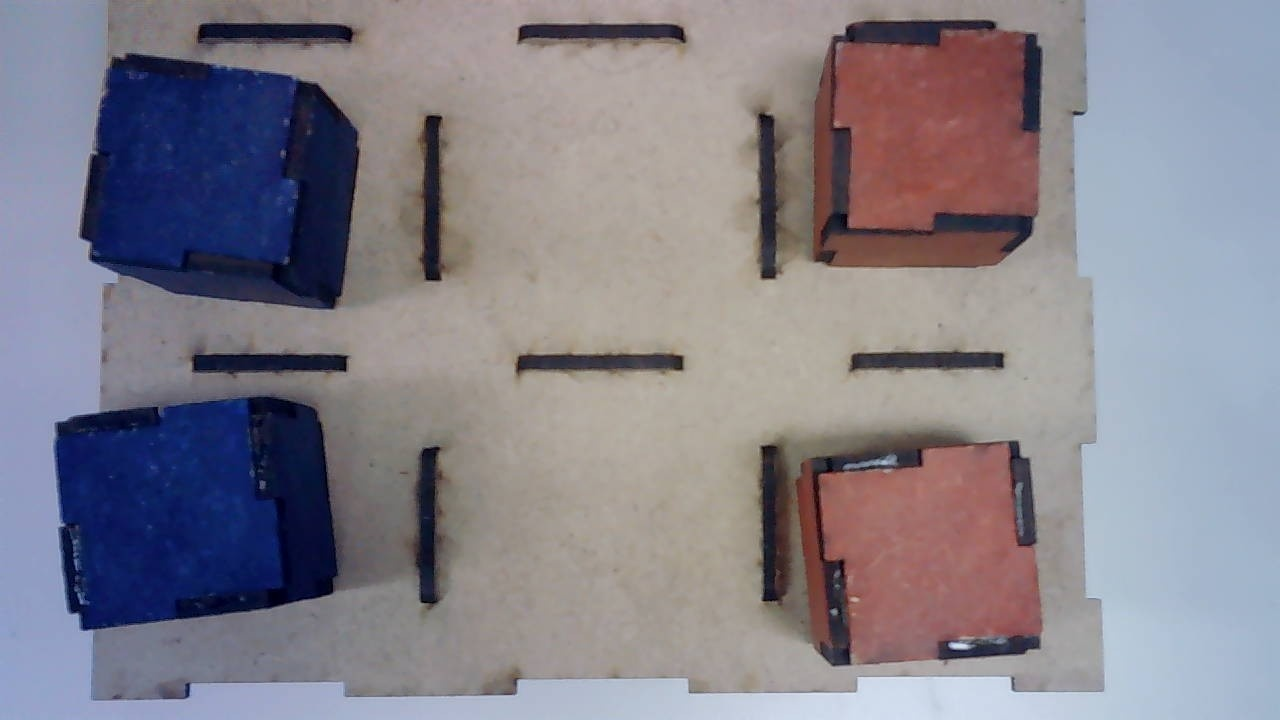blue box: (79, 54, 359, 314), (51, 396, 346, 631)
red box: (812, 18, 1040, 271), (796, 439, 1042, 664)
